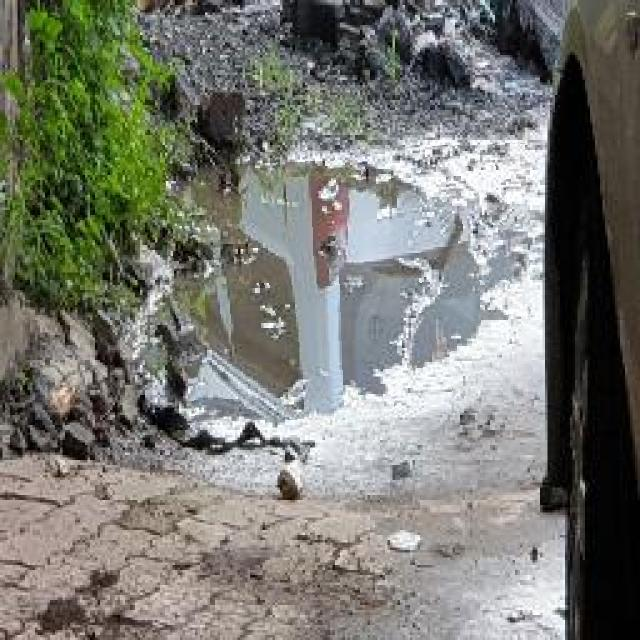puddle: (168, 147, 533, 421)
